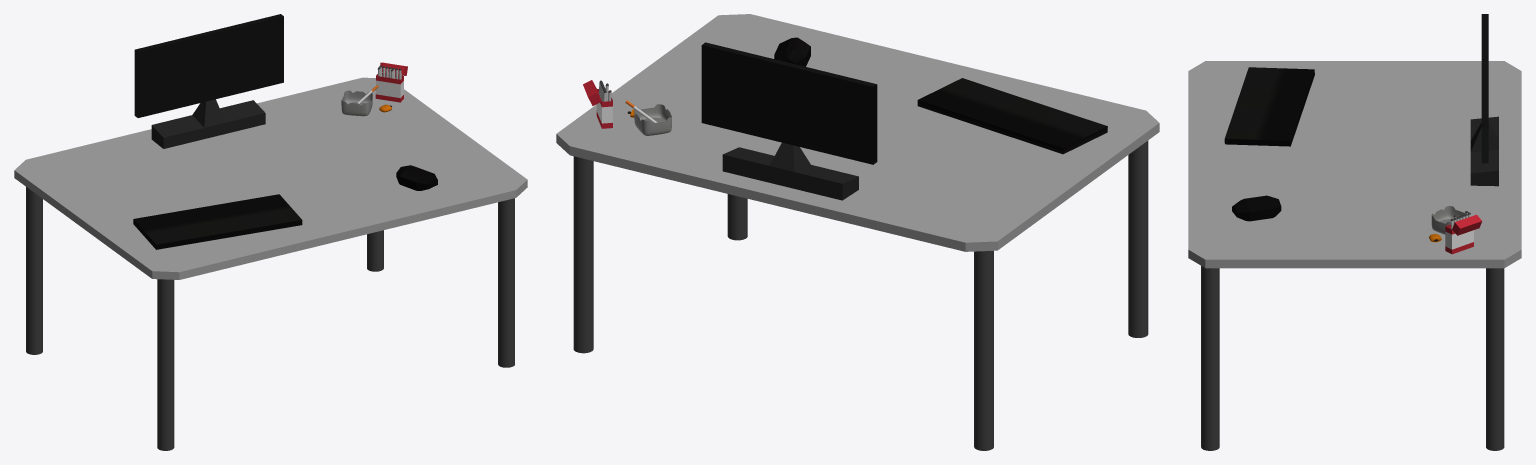
File: computer-desk--2.gltf
3 renders of one model, left to right at view 1: azimuth 30°, elevation 25°; view 2: azimuth 150°, elevation 25°; view 3: azimuth 270°, elevation 25°, orthographic. The views are drawn at different scales.
Parts seen in each view (by area): view 1: Table2; view 2: Table2; view 3: Table2.
Part boxes in pixels (<box>): Table2: <box>14,14,527,450</box>; Table2: <box>556,14,1159,450</box>; Table2: <box>1188,14,1521,450</box>.
Size of the model in its own units: 1.32 by 0.9426 by 0.9368.
Materials: 1 (1 with a texture image).
